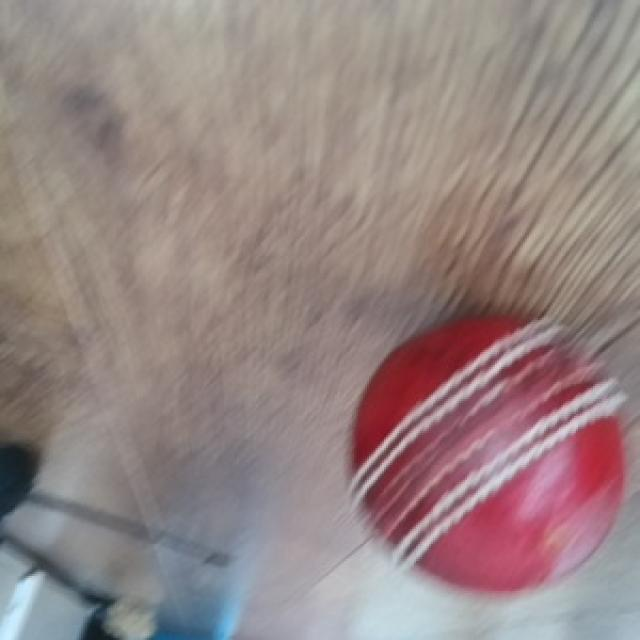ball: (329, 311, 636, 636)
